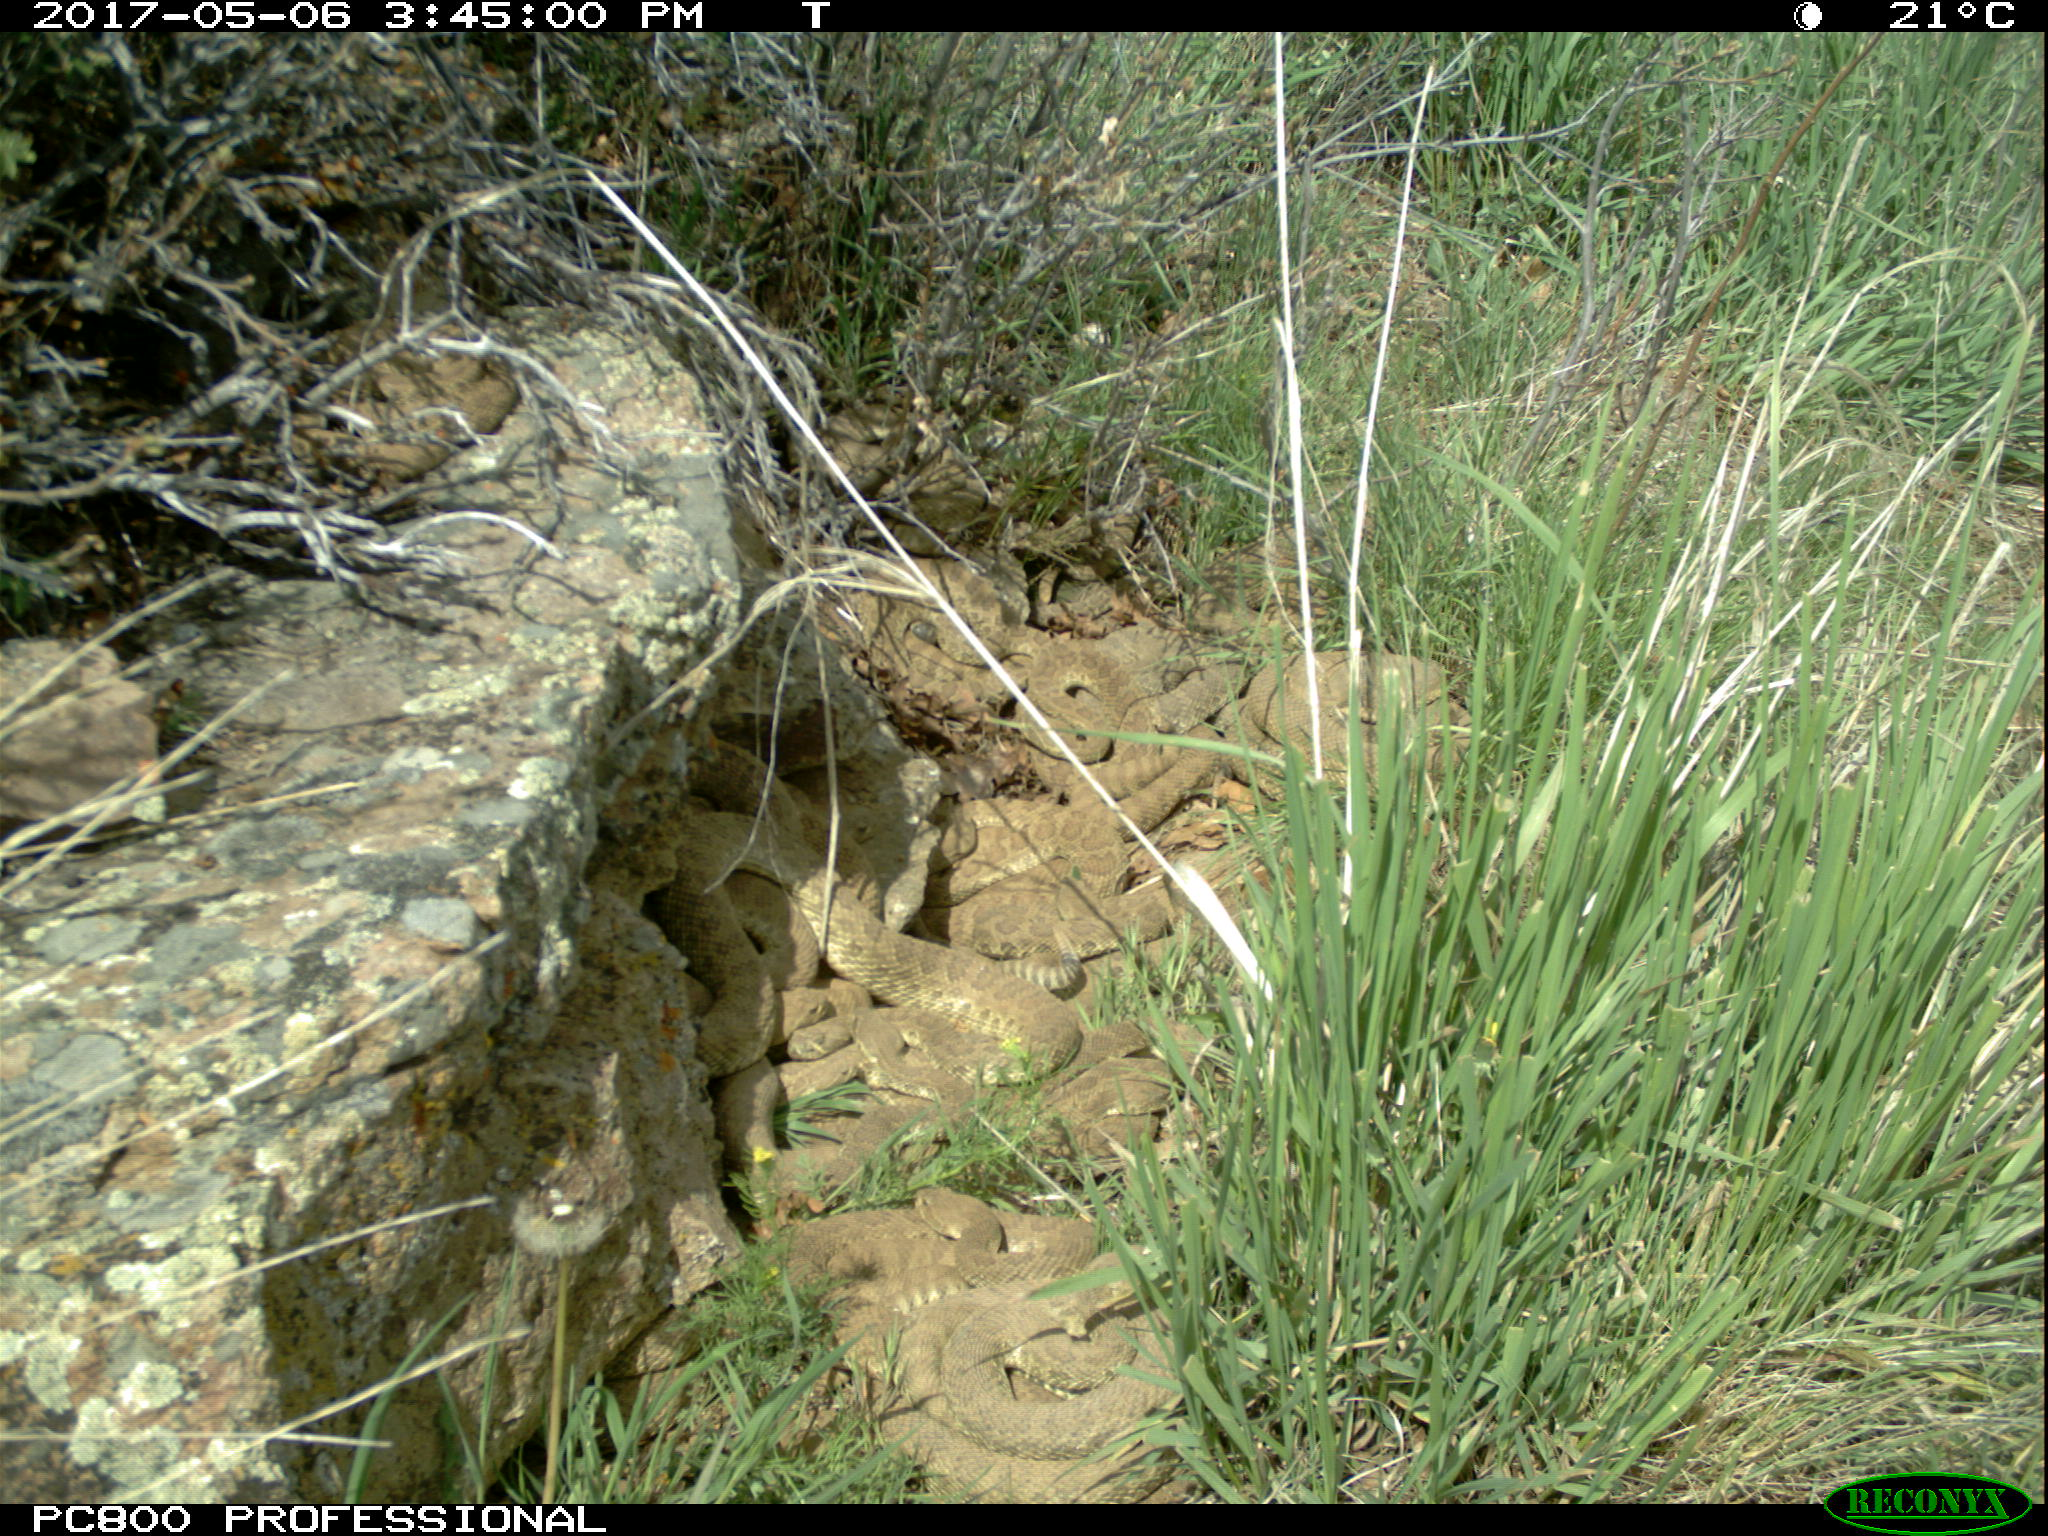snake: (668, 808, 1082, 1121), (918, 594, 1234, 818), (777, 1181, 1132, 1376), (860, 1292, 1176, 1499), (1234, 644, 1472, 766), (305, 336, 526, 465)
